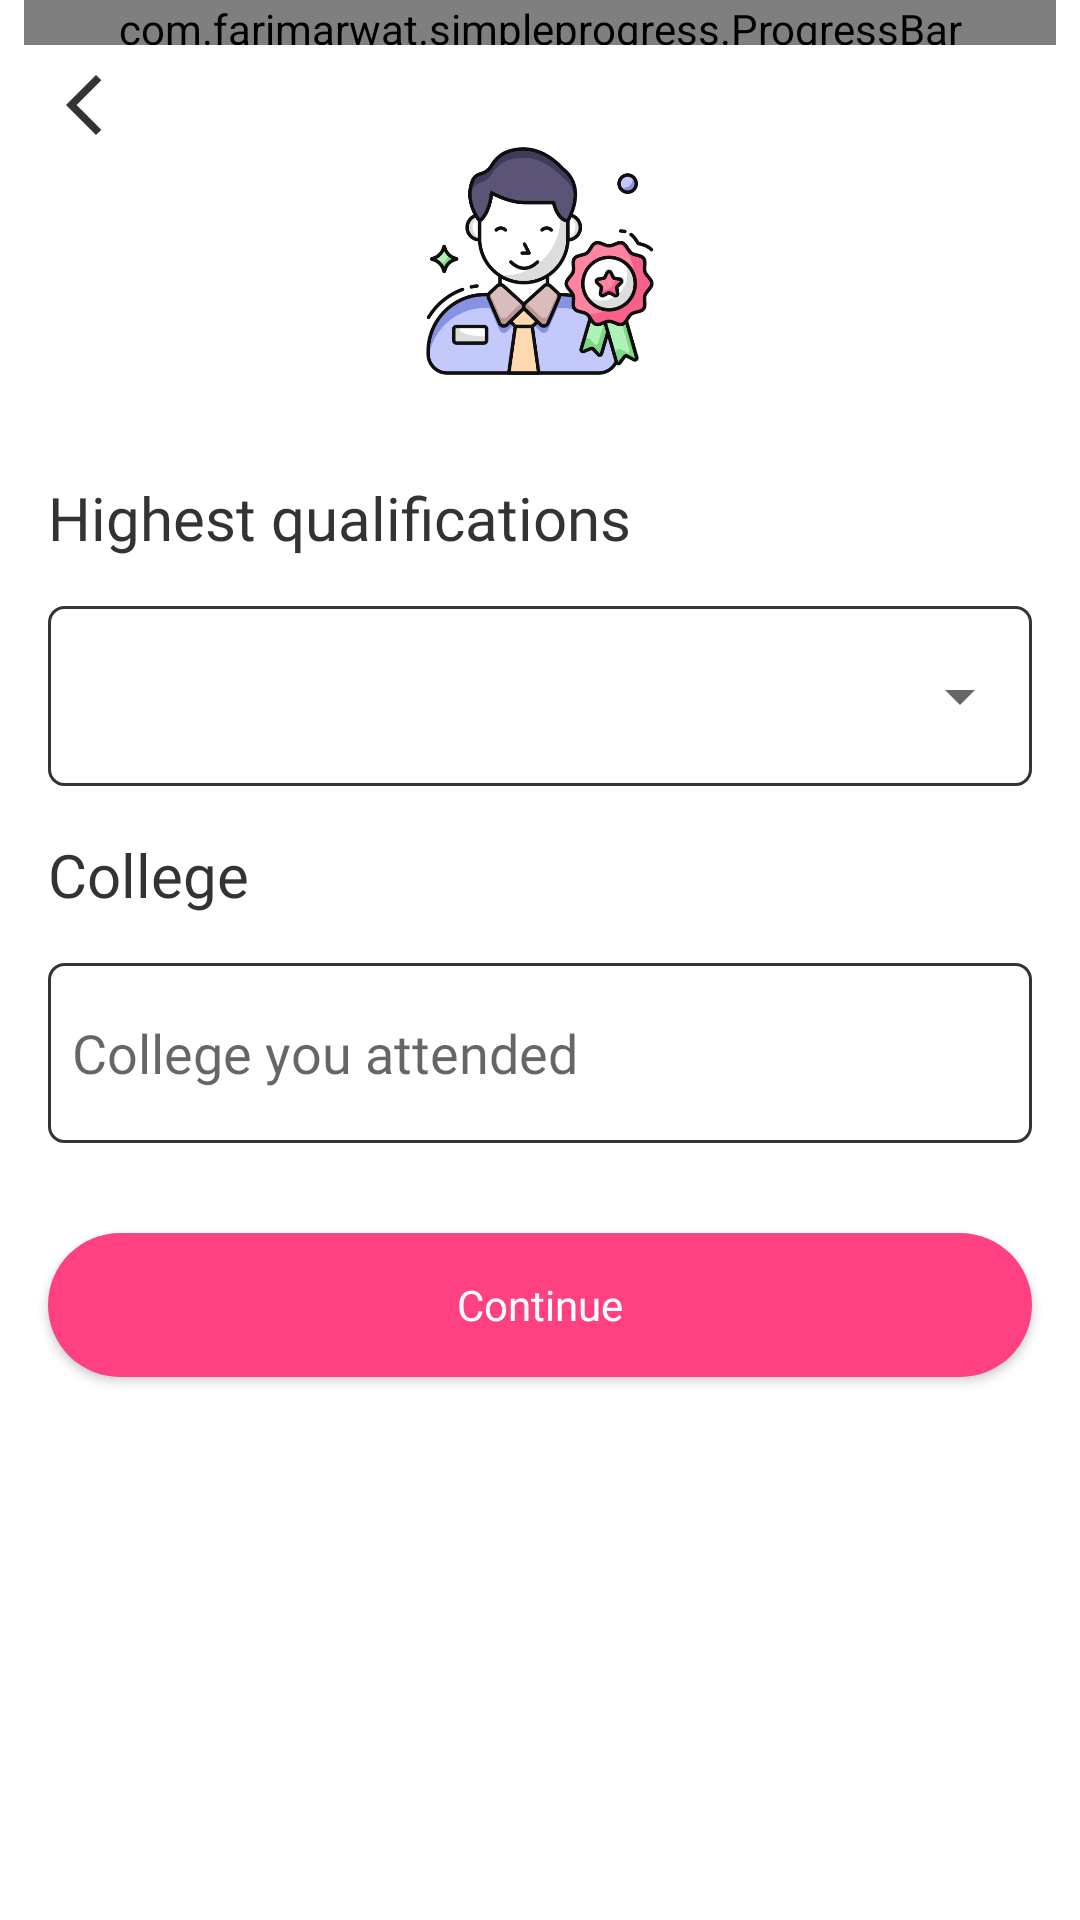

Icon bounding boxes for this 1080 x 1920 phone screenshot, format (x1=x1, y1=y1, x2=x2, y2=y2):
arrow back: (x1=66, y1=75, x2=101, y2=135)
